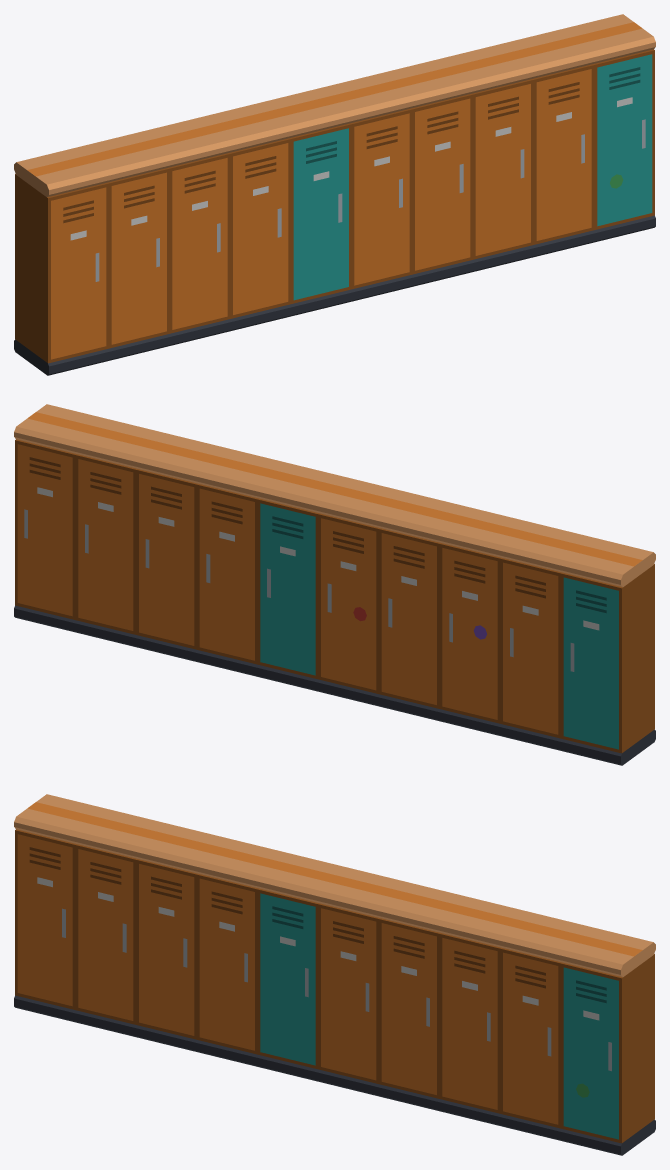
The model's file is school-wall2.glb.
3 views of the same model, one above another, from view 1: azimuth 30°, elevation 25°; view 2: azimuth 150°, elevation 25°; view 3: azimuth 330°, elevation 25° (orthographic).
Parts seen in each view (by area): view 1: school-wall2; view 2: school-wall2; view 3: school-wall2.
Boxes of the visible parts, <box> form: school-wall2: <box>14,14,655,375</box>; school-wall2: <box>14,404,655,765</box>; school-wall2: <box>14,794,655,1155</box>.
Bounding box in the file's own units: 4 × 1.2 × 0.4.
